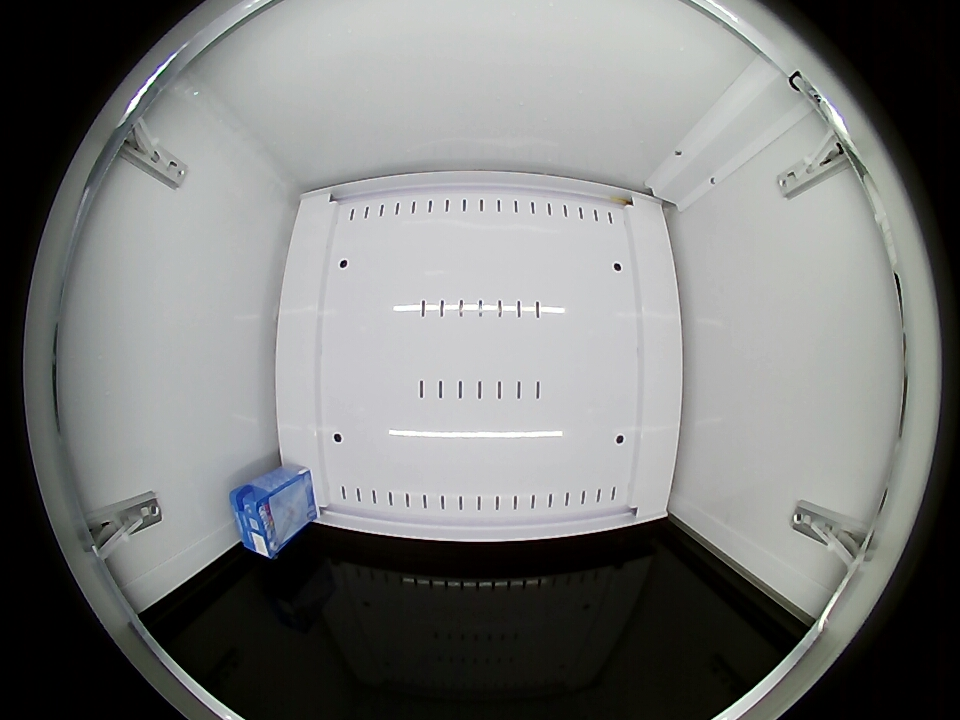weitanai: (229, 481, 288, 559)
